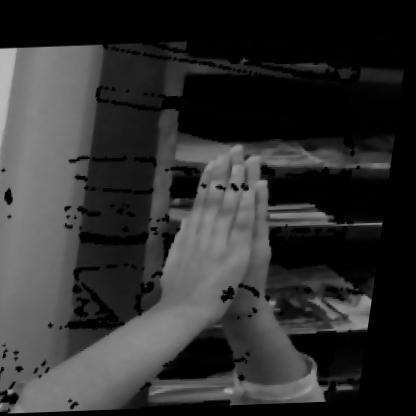namaste: (98, 114, 357, 369)
